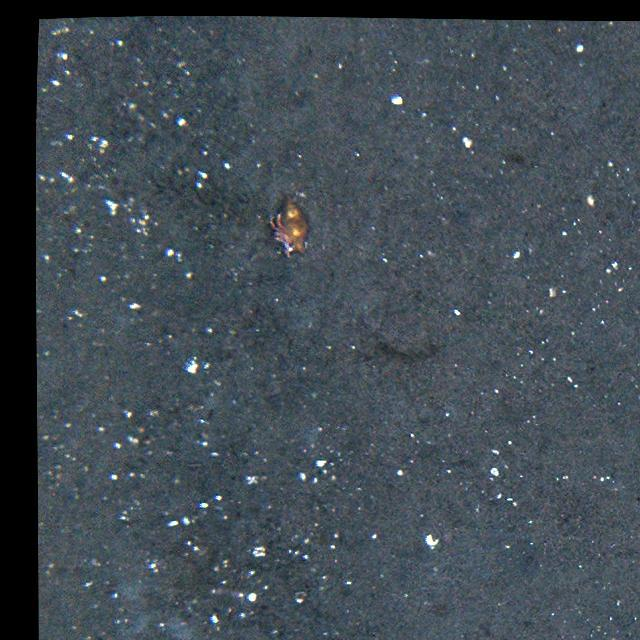crab: (266, 193, 310, 263)
